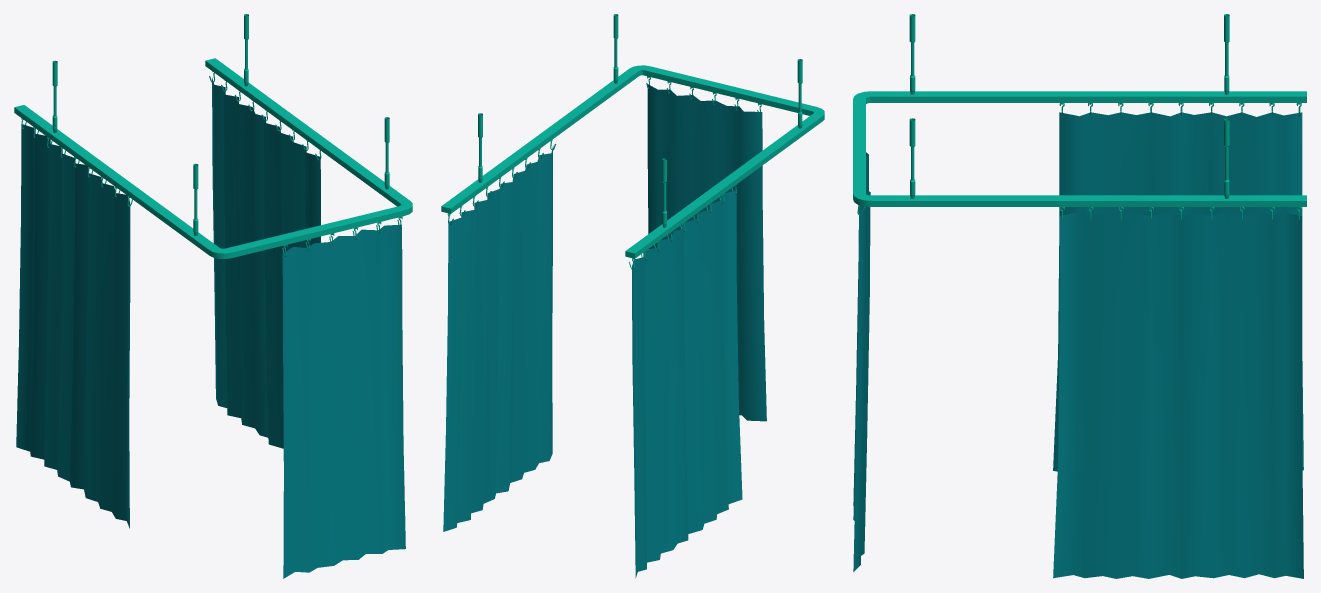
Rendered from Curtains.fbx.
The picture shows the model from 3 angles, left to right: view 1: azimuth 30°, elevation 25°; view 2: azimuth 150°, elevation 25°; view 3: azimuth 270°, elevation 25°; orthographic projection. The views are drawn at different scales.
Parts seen in each view (by area): view 1: F_Curtain, L_Curtain, R_Curtain, Rail; view 2: L_Curtain, R_Curtain, F_Curtain, Rail; view 3: R_Curtain, L_Curtain, Rail, F_Curtain.
Part boxes in pixels (bbox=[...]): F_Curtain: bbox=[282, 224, 405, 578]; L_Curtain: bbox=[16, 124, 130, 528]; R_Curtain: bbox=[212, 78, 320, 448]; Rail: bbox=[14, 14, 412, 258]; L_Curtain: bbox=[632, 190, 742, 578]; R_Curtain: bbox=[443, 145, 553, 531]; F_Curtain: bbox=[647, 84, 766, 421]; Rail: bbox=[441, 14, 824, 258]; R_Curtain: bbox=[1053, 211, 1303, 578]; L_Curtain: bbox=[1053, 112, 1303, 471]; Rail: bbox=[853, 14, 1306, 206]; F_Curtain: bbox=[853, 152, 870, 571].
Size of the model in its own units: 422 by 821 by 739.
